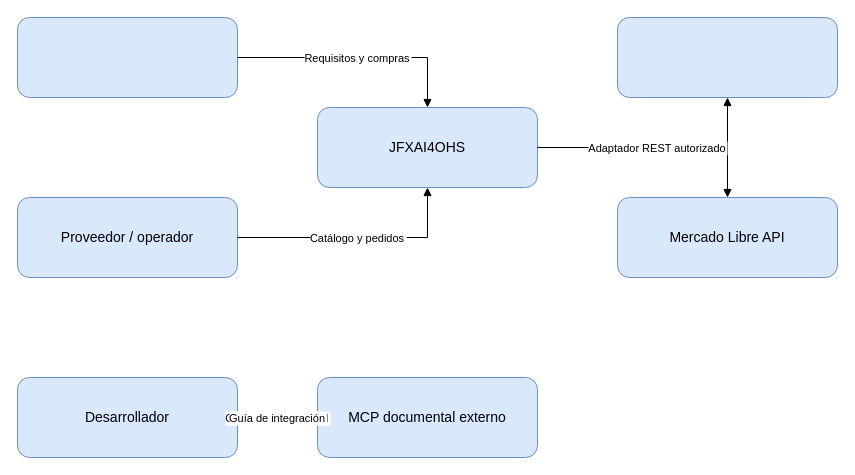
Image size: 855x475. Some labels were removed from this diagram. The centre of each missing label's shape, as x and y in pixels:
Comprador / ingeniería: pixel 127 57
ERP externo: pixel 727 57
